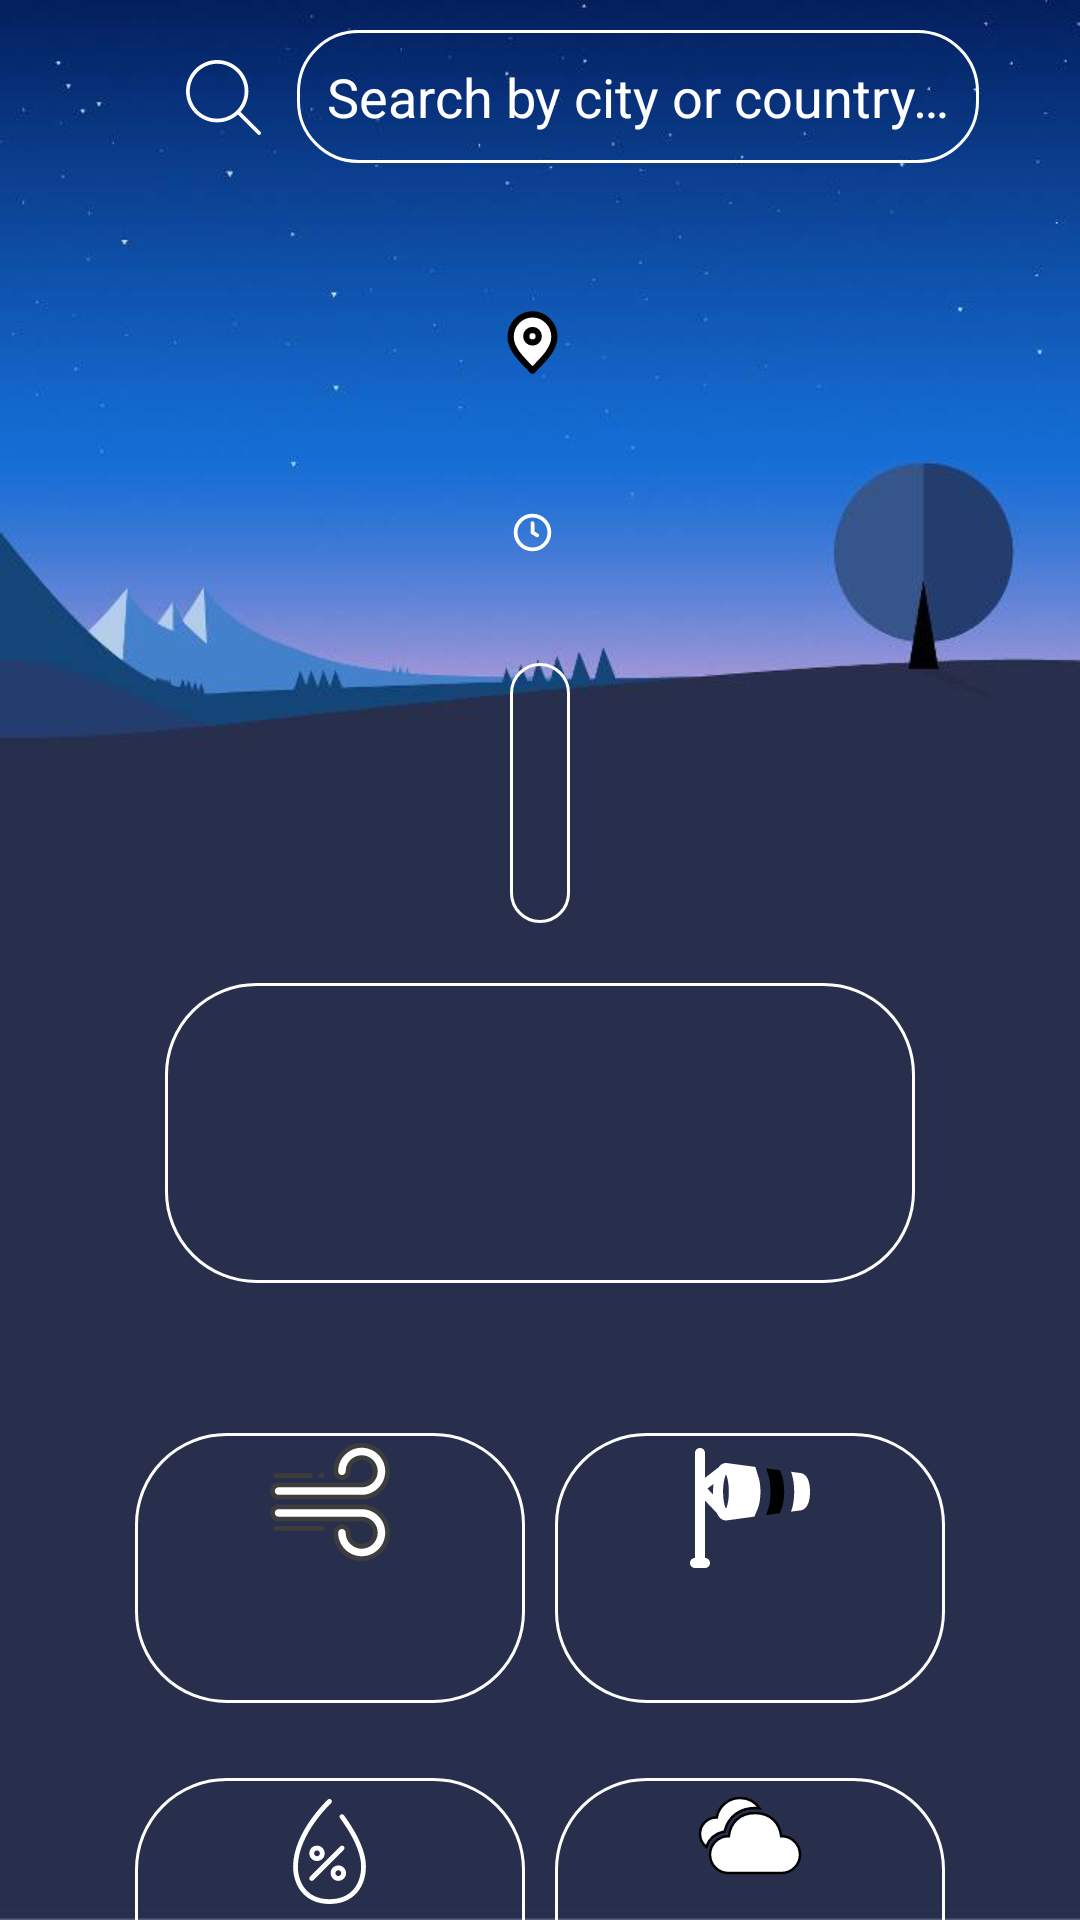

Screen size 1080x1920. Icon name, then its center in pixels as (x,y):
humidity: (329,1851)
weather cloudy: (750,1835)
wind direction: (750,1508)
wind speed: (330,1502)
